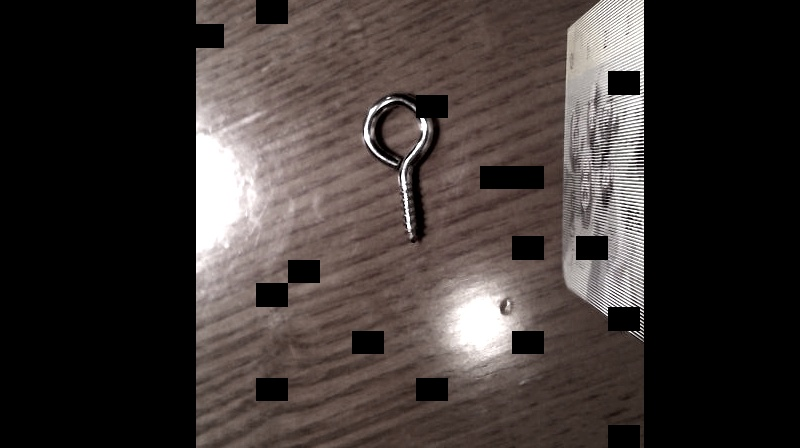O001: (359, 87, 443, 246)
